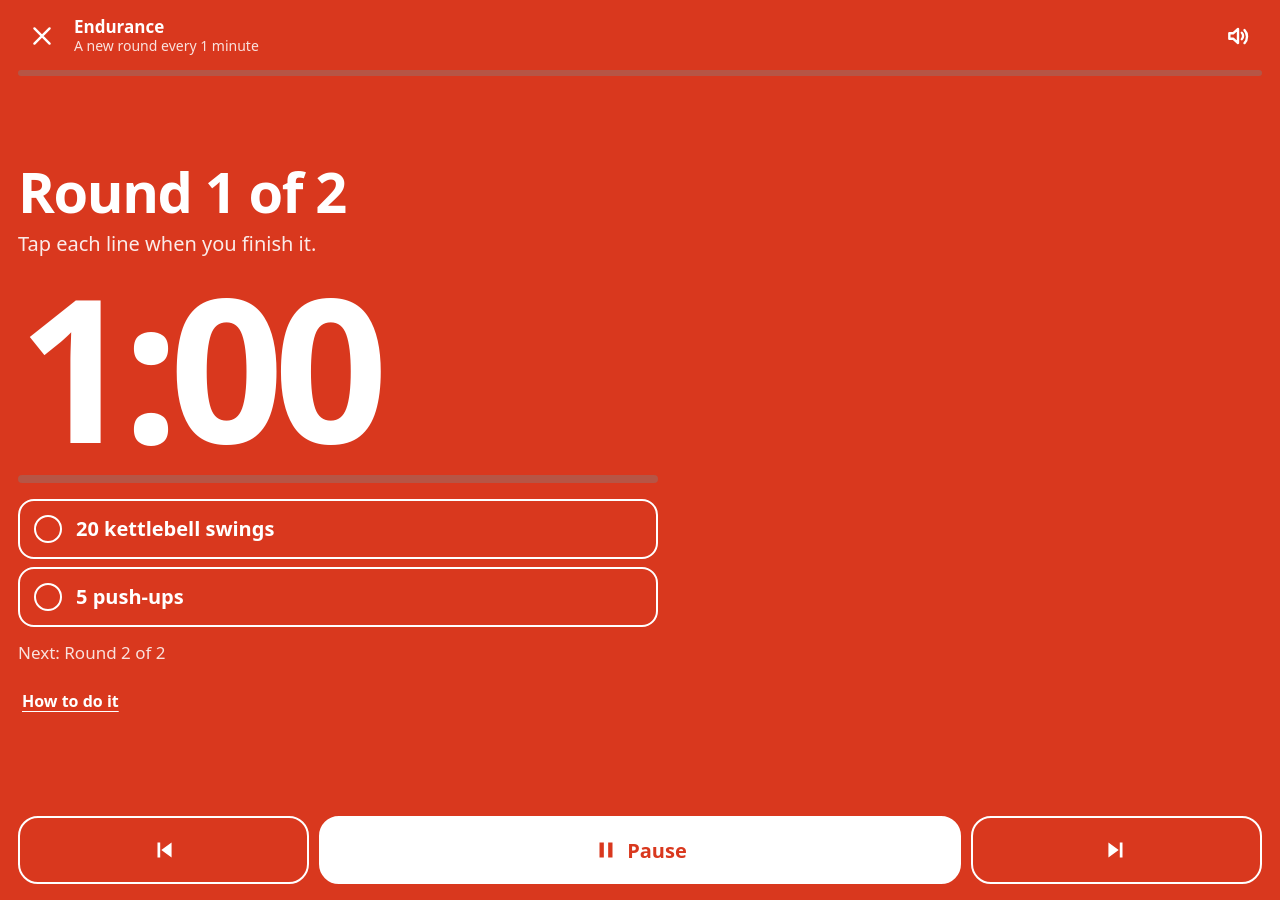
it: an emom round › becomes a rest once every line is ticked
Click the button "20 kettlebell swings" at (175, 528), box [18,498,658,558]
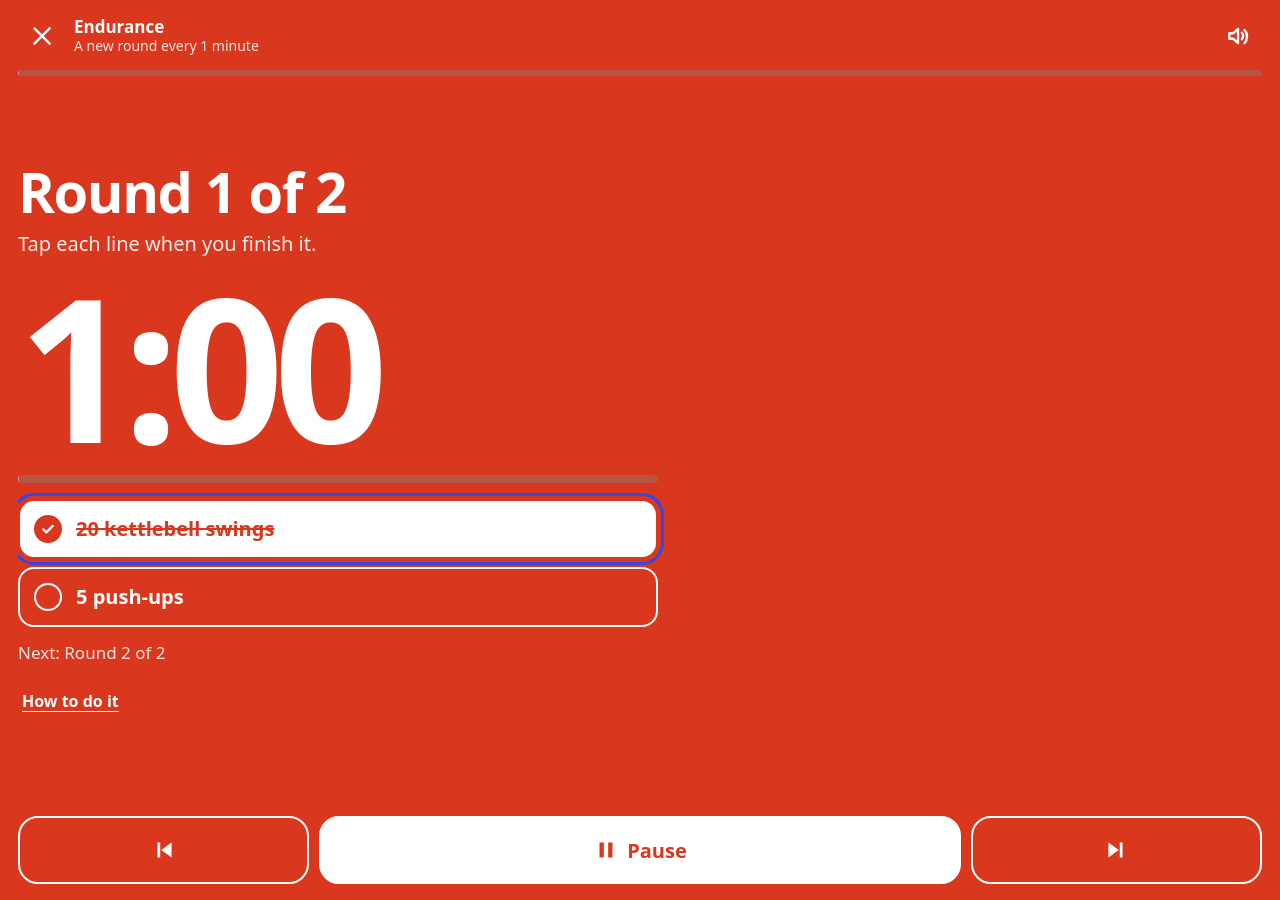
Click the button "5 push-ups" at (130, 596), box [18,566,658,626]
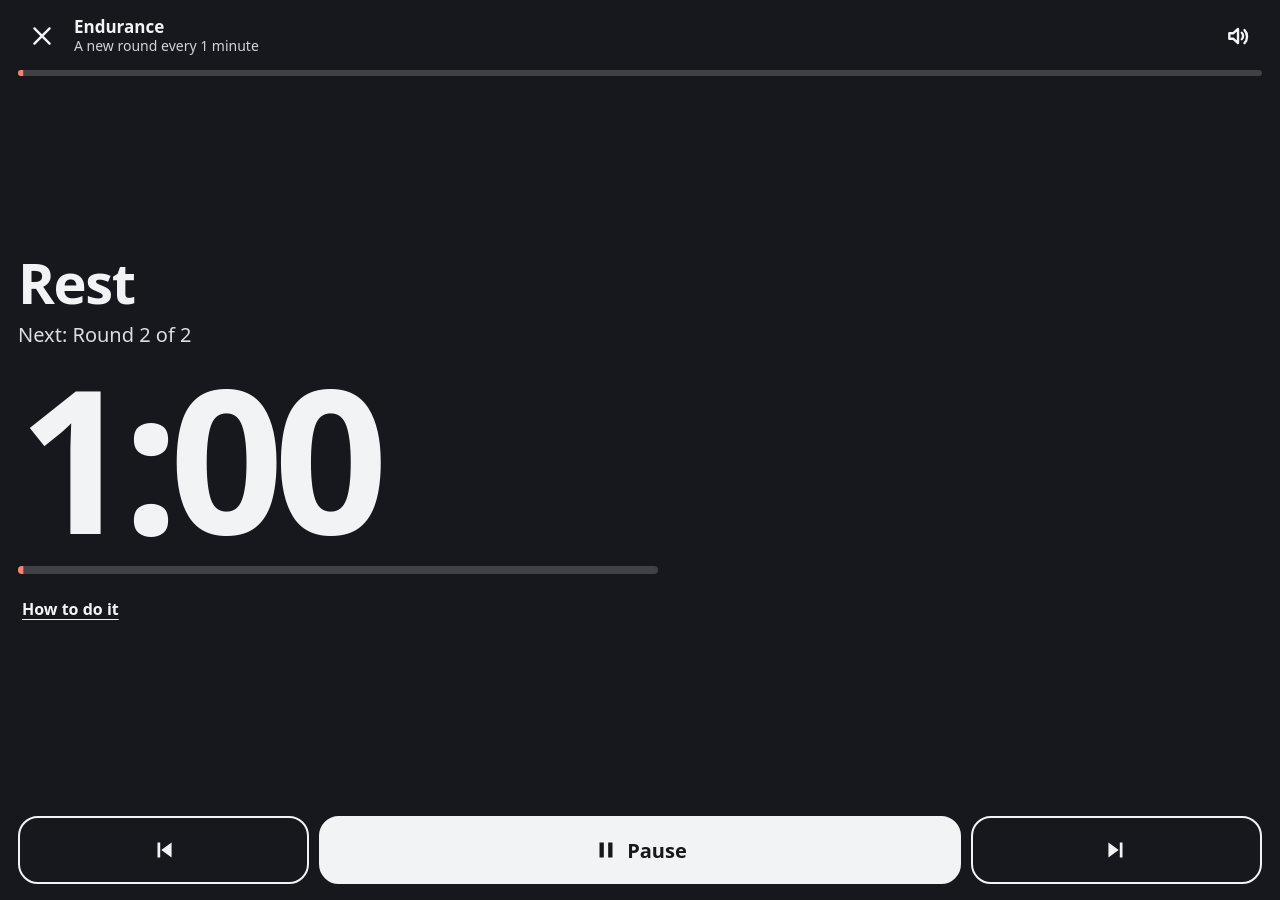
Expected: the text "1:00" is shown, [18,320,378,593]
Result: the text "Rest" is shown at [18,244,135,320]
